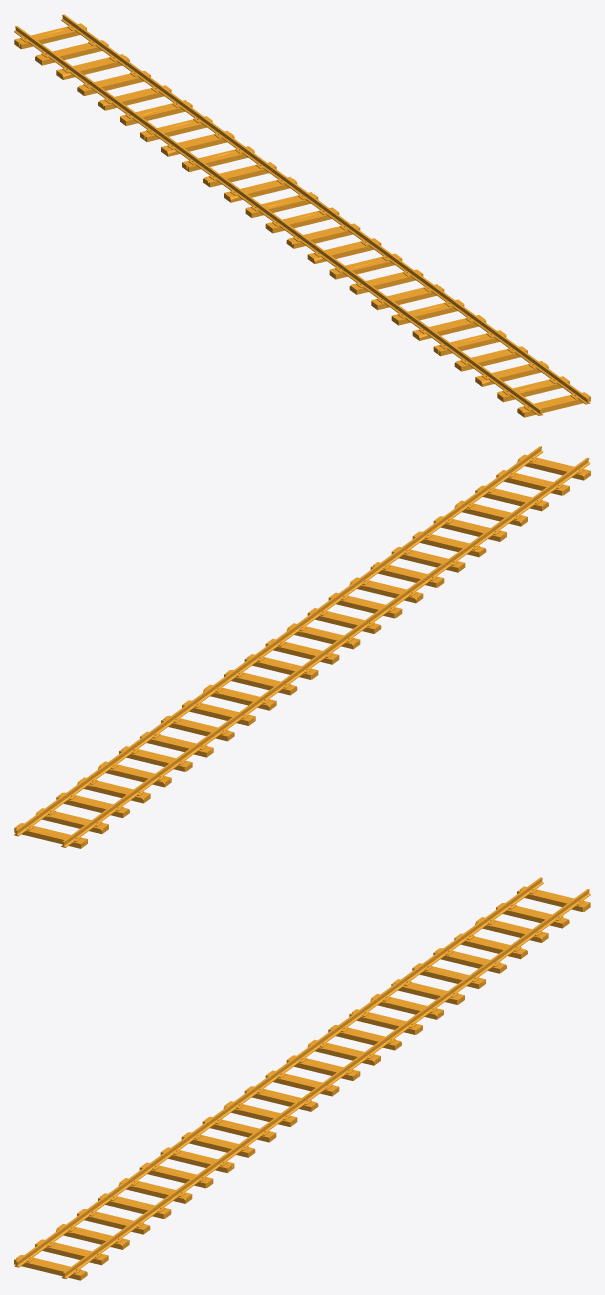
Rendered from SM_Train_Rail_Subdivided_Old.fbx.
3 views of the same model, one above another, from view 1: azimuth 30°, elevation 25°; view 2: azimuth 150°, elevation 25°; view 3: azimuth 330°, elevation 25° (orthographic).
Visible parts, largest first — view 1: SM_Train_Rail_Subdivided_Old; view 2: SM_Train_Rail_Subdivided_Old; view 3: SM_Train_Rail_Subdivided_Old.
Boxes of the visible parts, x1,y1,x2,y2 form: SM_Train_Rail_Subdivided_Old: [14, 14, 590, 417]; SM_Train_Rail_Subdivided_Old: [14, 446, 590, 848]; SM_Train_Rail_Subdivided_Old: [14, 877, 590, 1280].
Size of the model in its own units: 2.21 by 0.3465 by 30.
